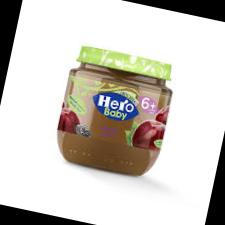Plastik: (50, 39, 178, 179)
